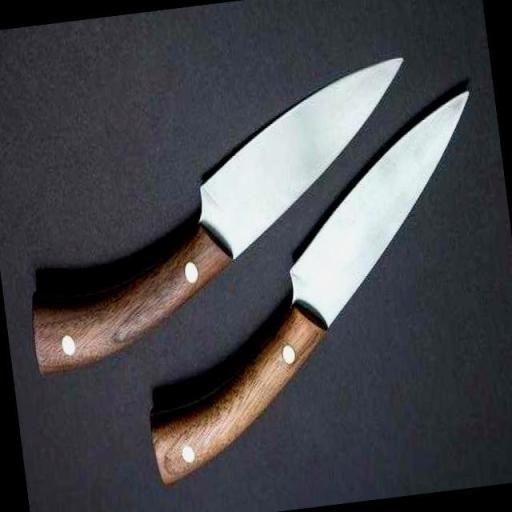knife: (0, 39, 512, 494)
